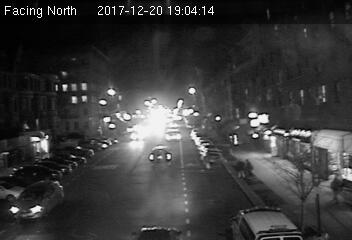car: (7, 181, 66, 218), (148, 145, 172, 166), (164, 130, 183, 142)
police: (231, 207, 302, 240)
